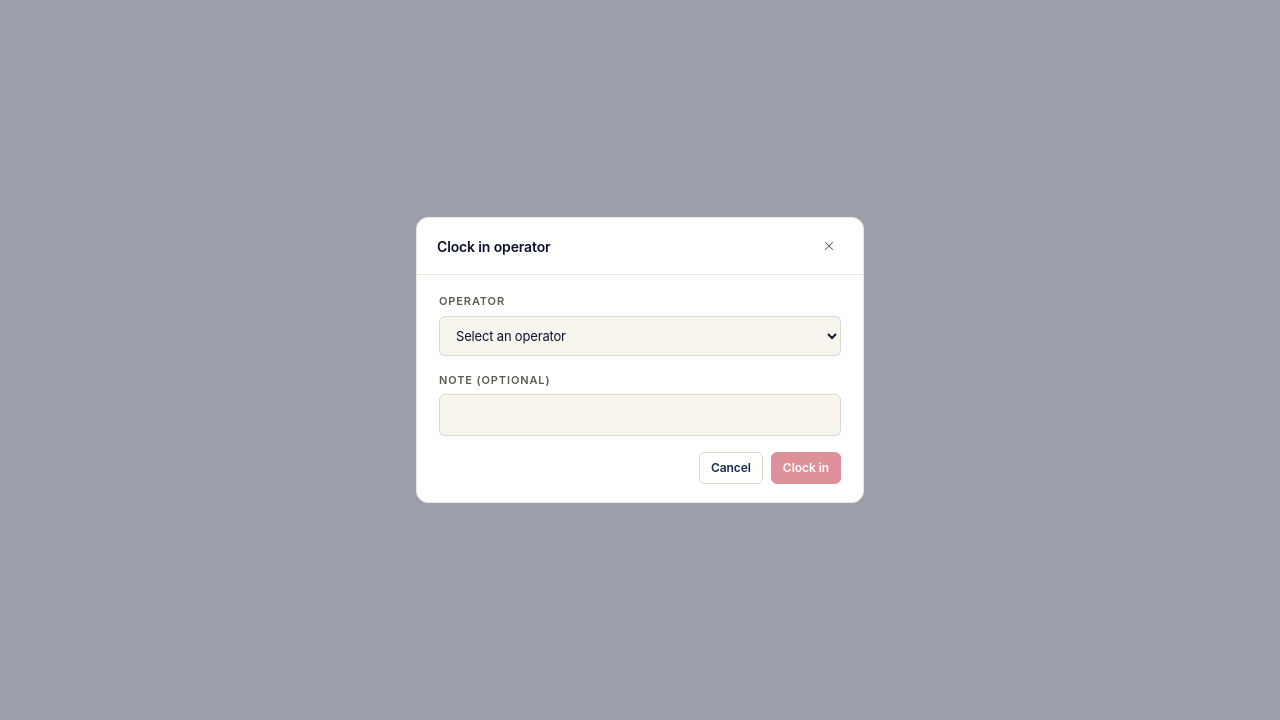
it: Phase-09 §8 component-render: ClockInDialog (dir=ltr) › submit button is disabled while operatorId is unset AND while the mutation is in-flight
Expected: the submit button is disabled, left=771, top=452, right=841, bottom=484
// Select an operator -- submit becomes enabled.
Select "Neda" in the dropdown labelled "Operator" at (640, 336), box left=439, top=316, right=841, bottom=356
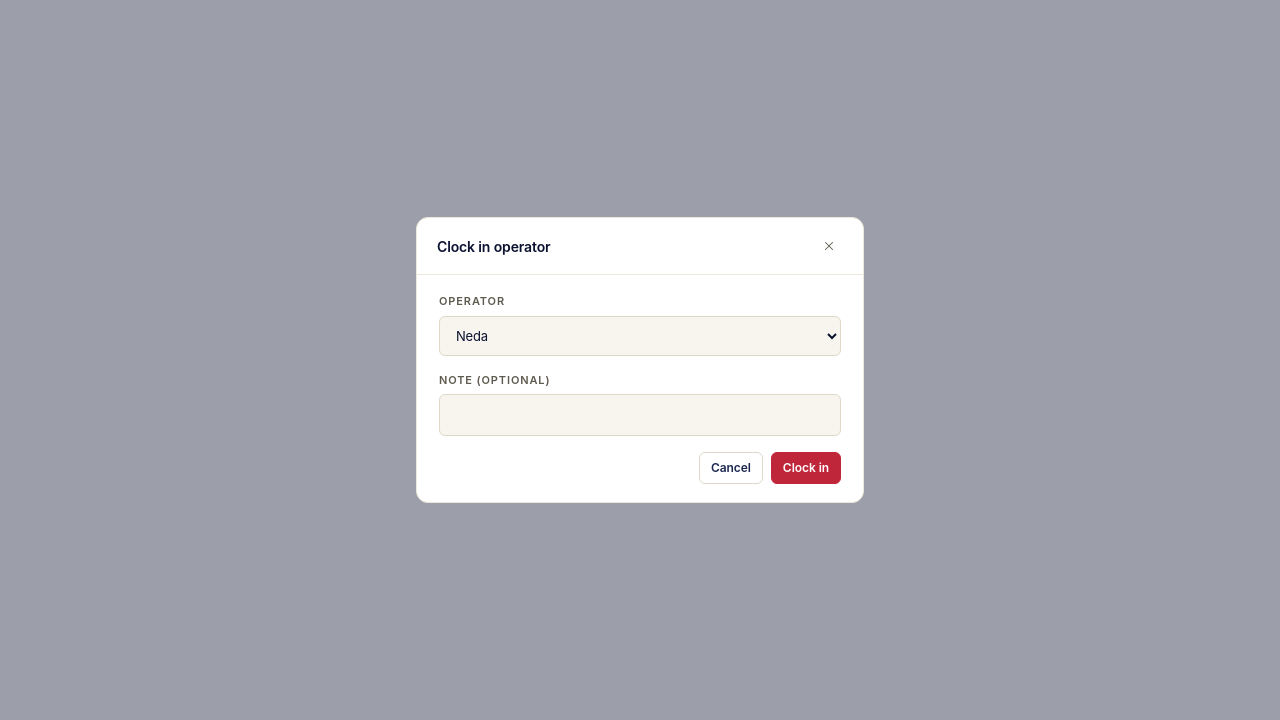
Expected: the submit button is enabled, left=771, top=452, right=841, bottom=484
Submit the form, box left=416, top=217, right=864, bottom=503
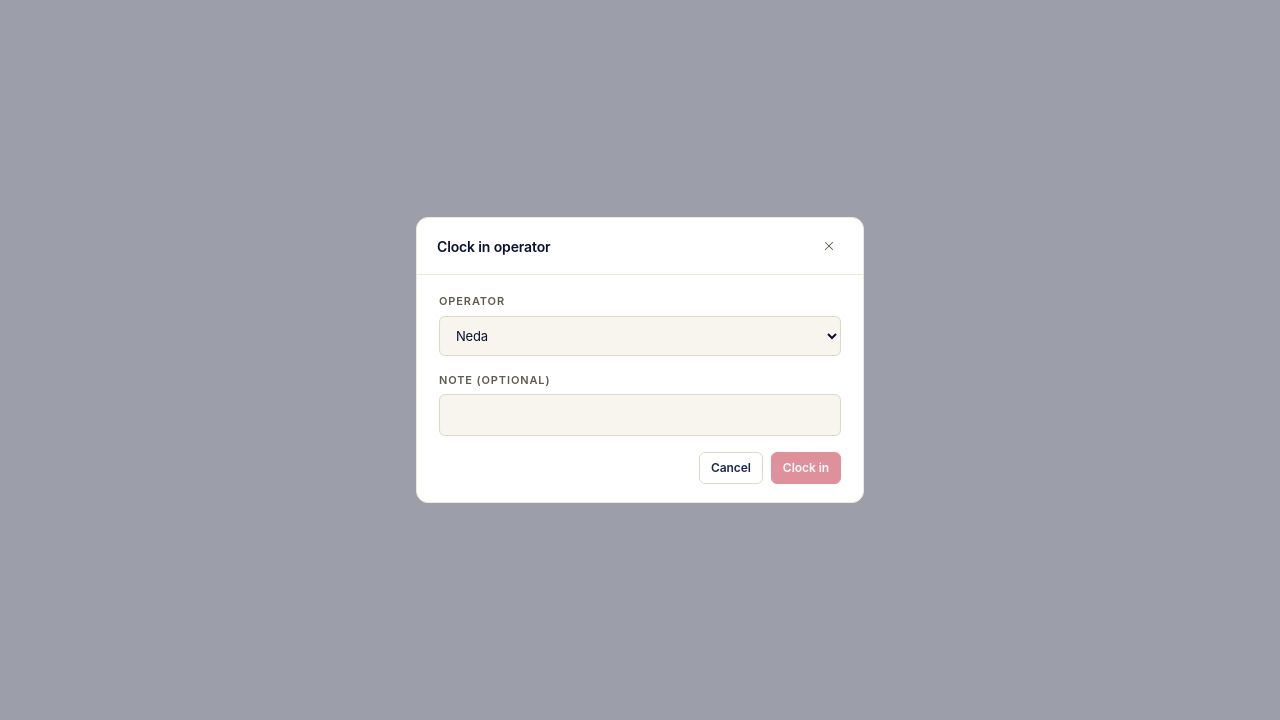
Expected: the submit button is disabled, left=771, top=452, right=841, bottom=484
